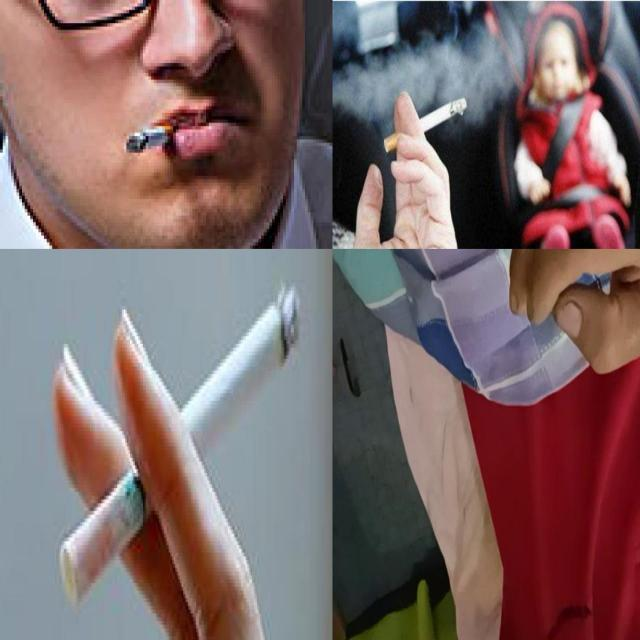smoke: (54, 280, 302, 610), (384, 98, 466, 154), (125, 124, 175, 154)
